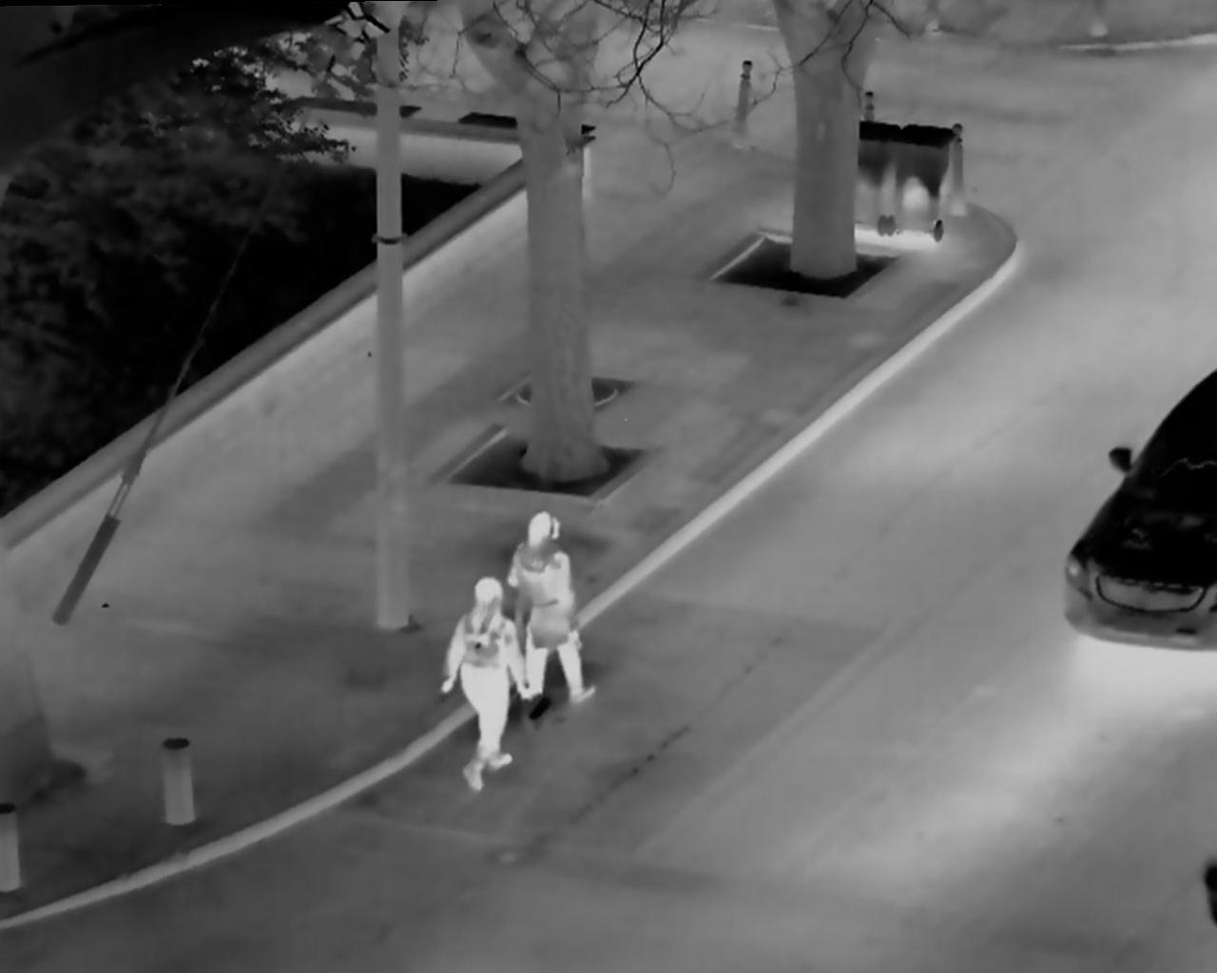person: (439, 563, 530, 804), (502, 509, 612, 706)
